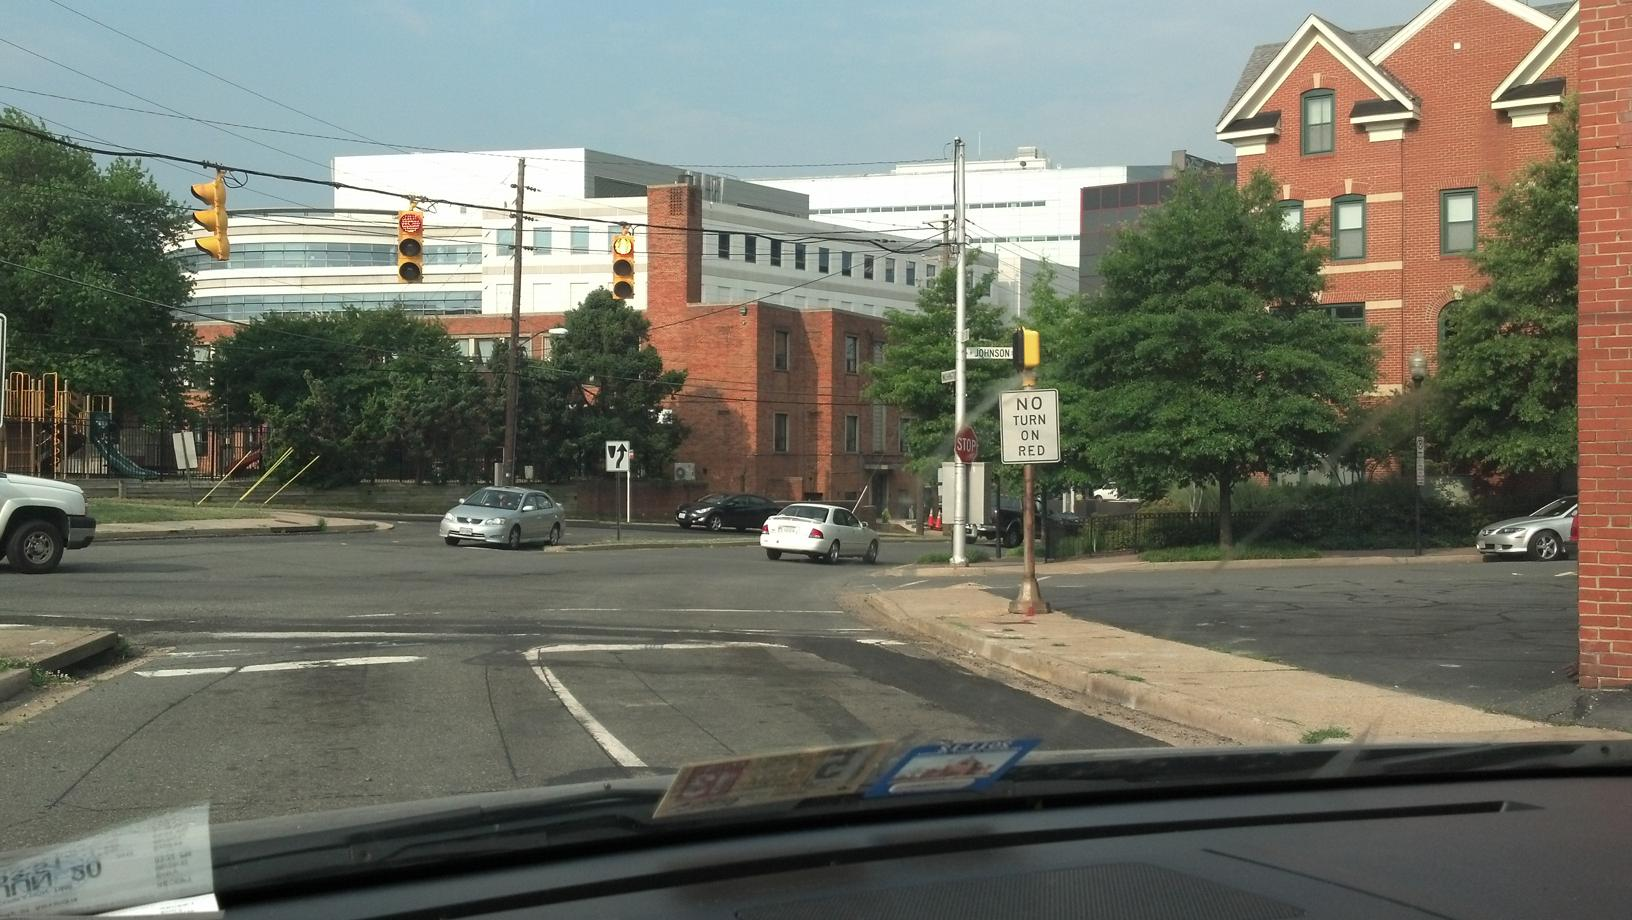car: (11, 459, 92, 567), (437, 480, 563, 545), (1487, 487, 1585, 569), (764, 501, 881, 560)
